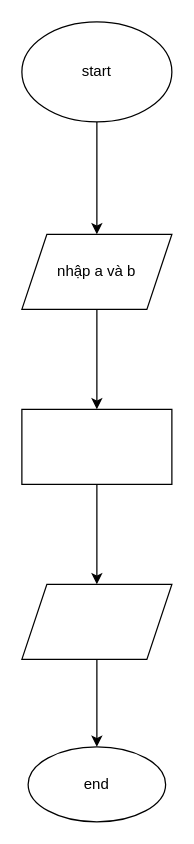
This 194x844 diagram has some shape labels left out. Here are the shapes that lost their labels. From the top down, the centre of each, then its label:
At pixel 96 446: "sum = a + b".
At pixel 96 621: "sum".
